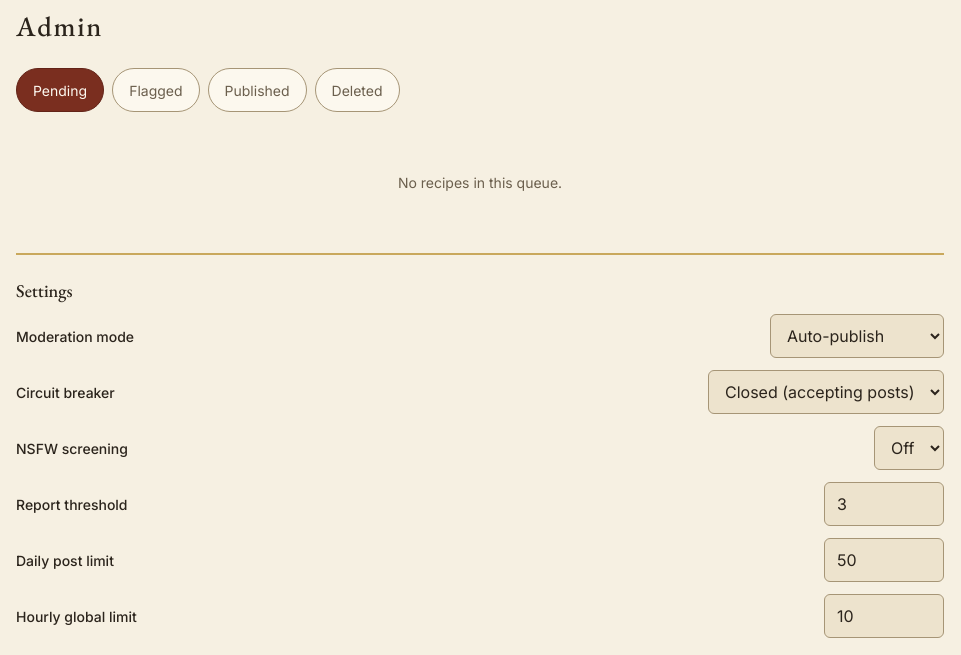
Test case: AdminPage › 数値設定を空でblurするとPUTせず現在値へ復帰する
Clear the number field labelled "Report threshold" at point(884, 504), box x1=824 y1=482 x2=944 y2=526
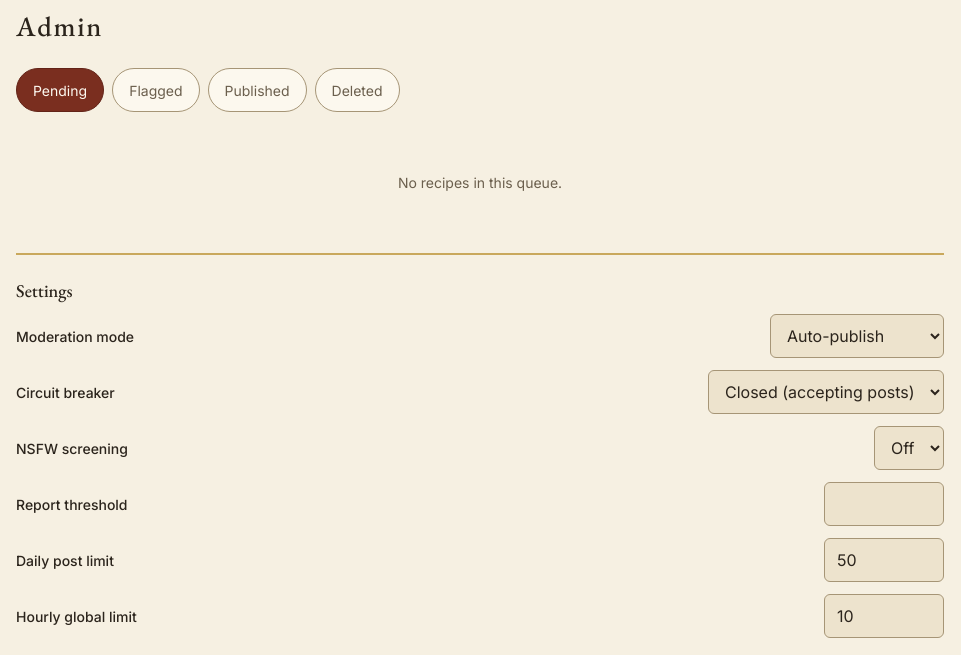
Leave the number field labelled "Report threshold", box x1=824 y1=482 x2=944 y2=526
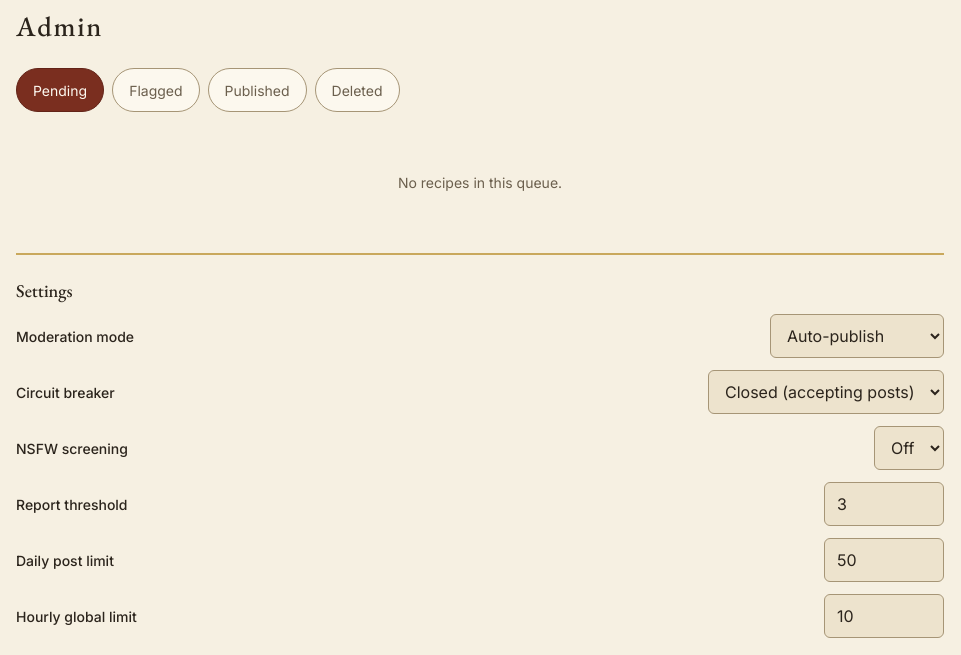
Expected: the number field labelled "Report threshold" holds "3", x1=824 y1=482 x2=944 y2=526
